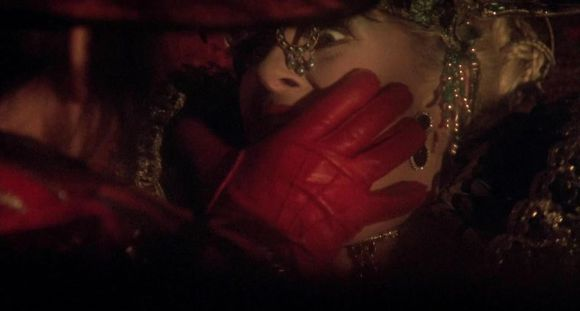face: (235, 1, 436, 226)
